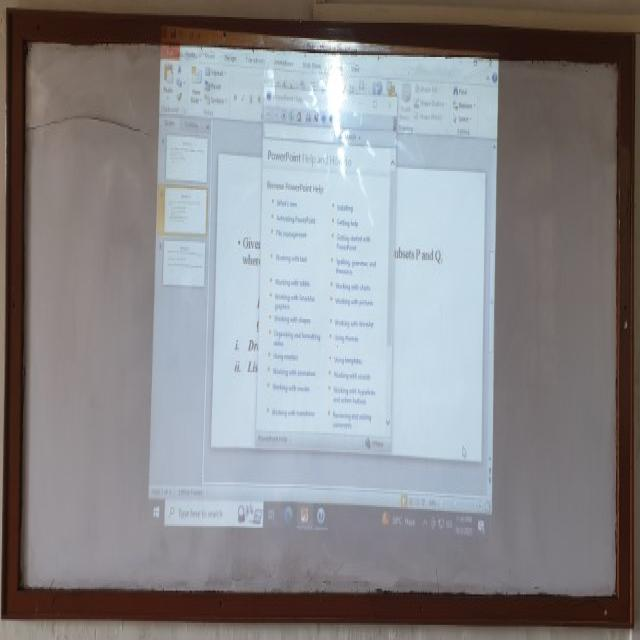Slide: (145, 23, 499, 550)
White-board: (14, 25, 630, 613)
